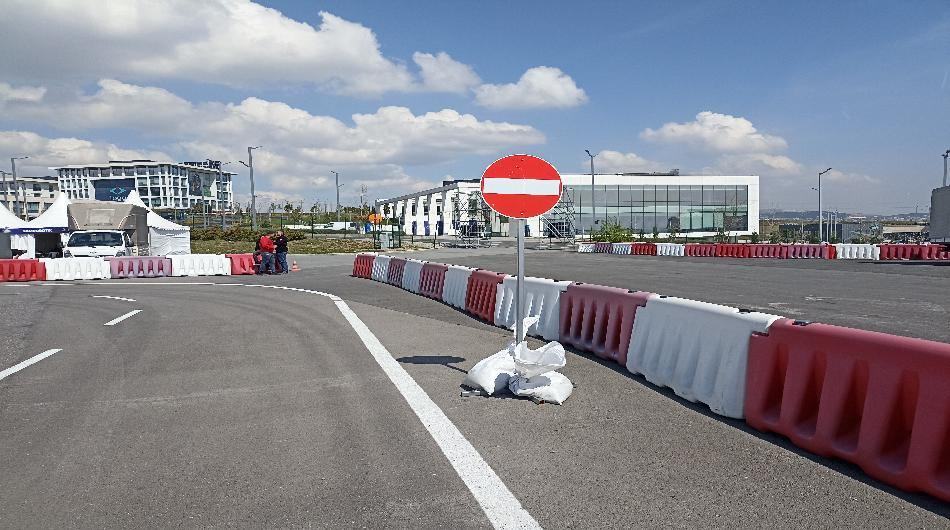girilmez: (477, 152, 564, 217)
